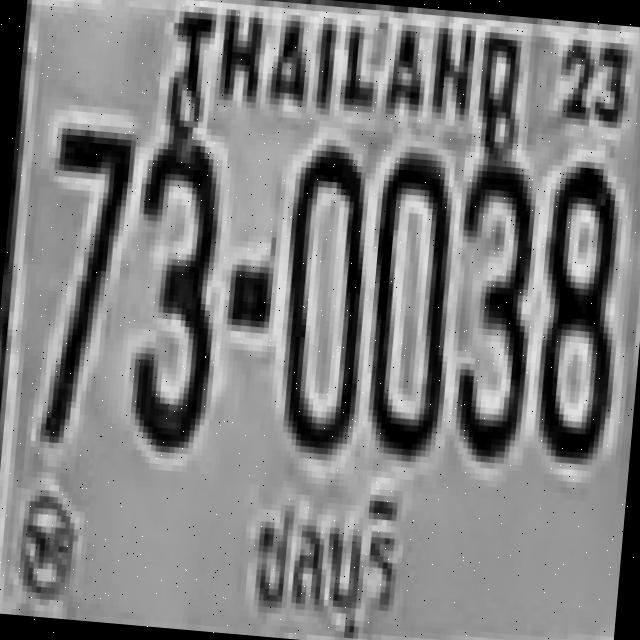0: (267, 136, 373, 450), (358, 147, 458, 454), (277, 136, 370, 365)
3: (120, 129, 227, 449), (438, 157, 538, 458)
7: (42, 125, 132, 318)
8: (527, 159, 627, 460)
Chonburi: (222, 473, 427, 640)
